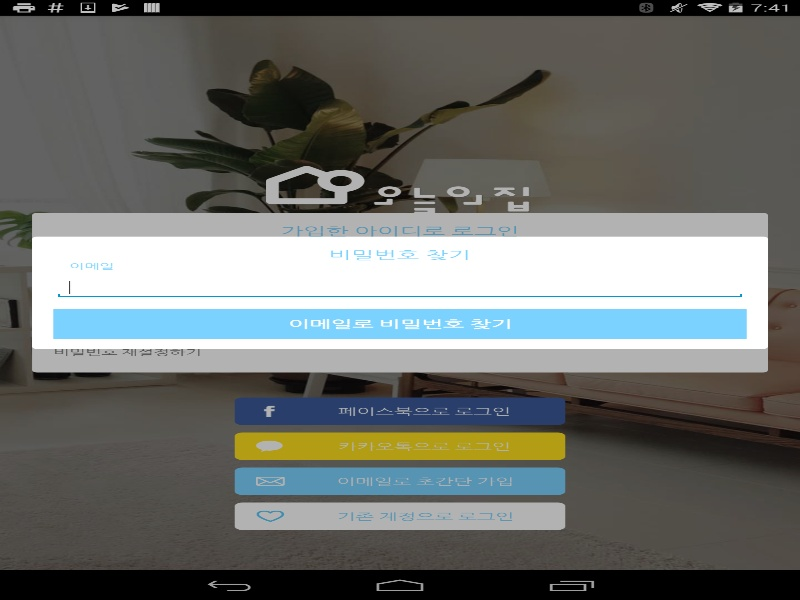Input: (53, 268, 746, 299)
